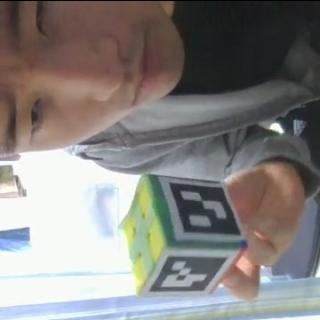armor: (158, 173, 240, 240), (138, 247, 242, 297)
robot: (120, 172, 251, 298)
